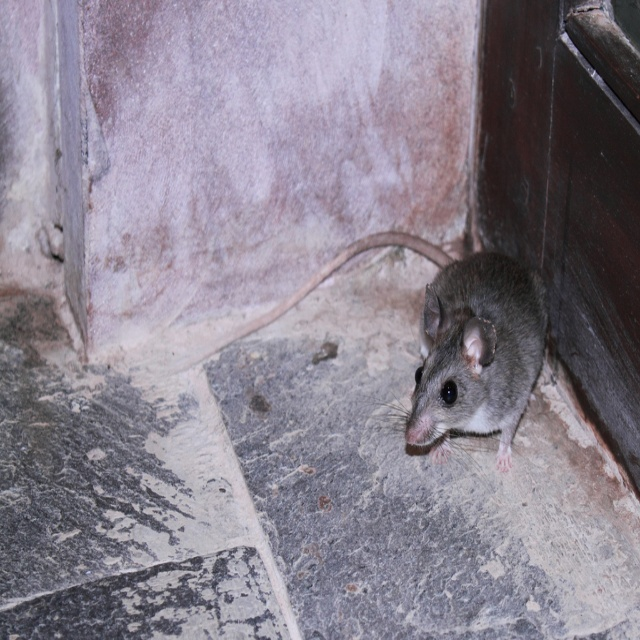Mouse: (167, 229, 550, 513)
